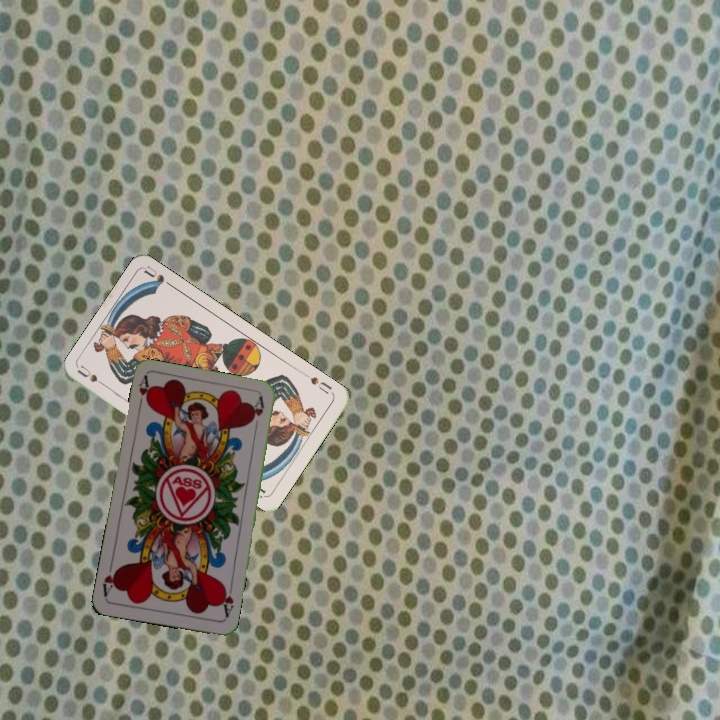HA: (134, 373, 154, 413), (217, 580, 236, 620)
SU: (74, 362, 112, 392), (300, 369, 336, 397)
